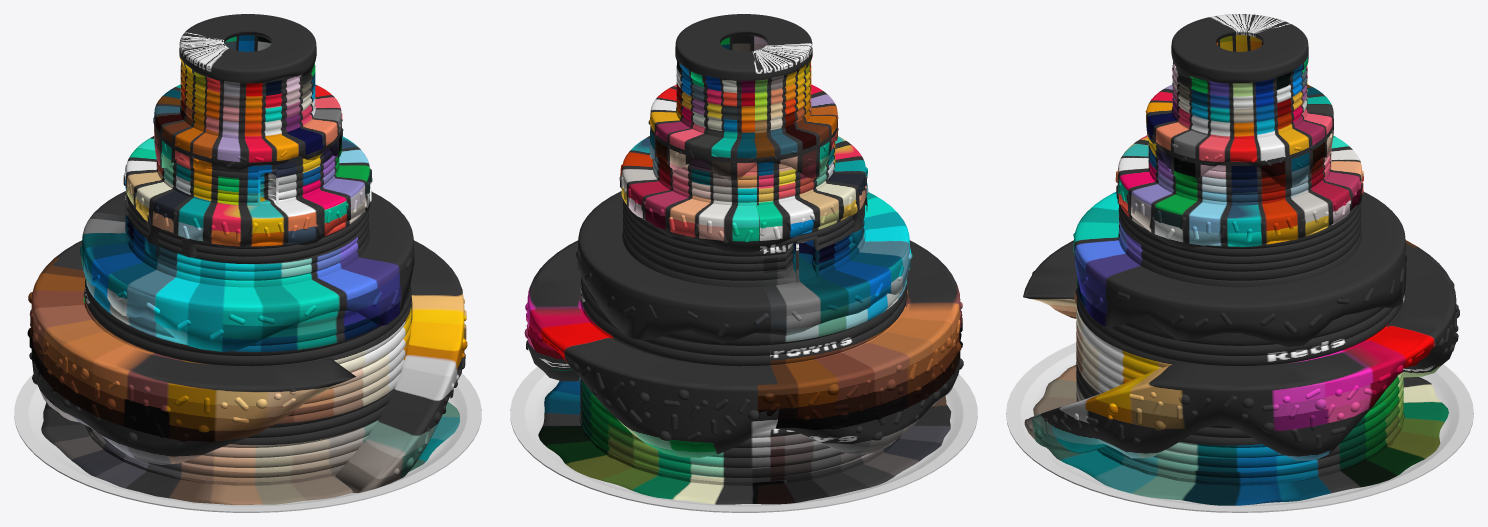
The model's file is cake.glb.
3 renders of one model, left to right at view 1: azimuth 30°, elevation 25°; view 2: azimuth 150°, elevation 25°; view 3: azimuth 270°, elevation 25°, orthographic.
Parts seen in each view (by area): view 1: cake_merged; view 2: cake_merged; view 3: cake_merged.
Boxes of the visible parts, left/top/right/bottom form: cake_merged: left=14, top=14, right=481, bottom=512; cake_merged: left=510, top=14, right=977, bottom=512; cake_merged: left=1006, top=14, right=1473, bottom=512.
Size of what is drawn, in the model's own units: 69.6 by 63.13 by 69.6.
Materials: 7 (6 with a texture image).
